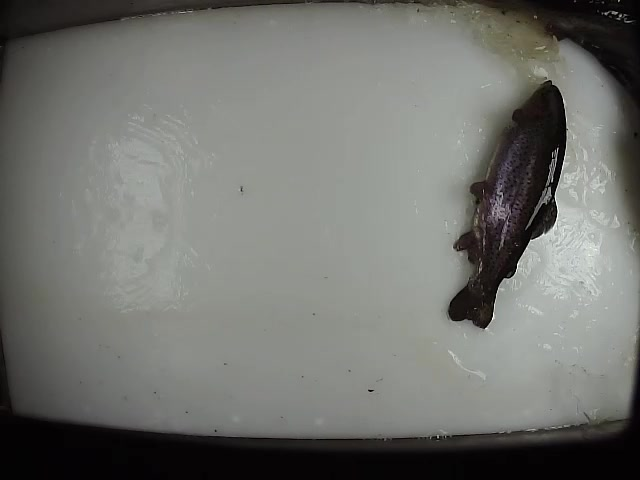fish: (446, 78, 567, 330)
